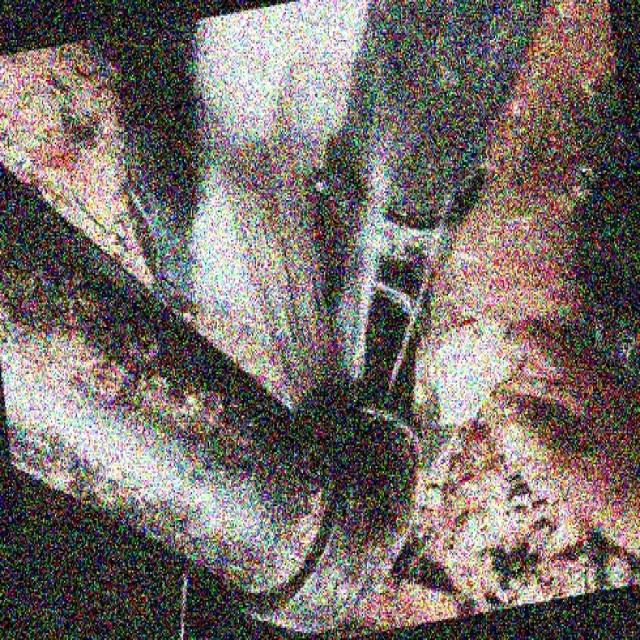Leak: (238, 193, 440, 466)
